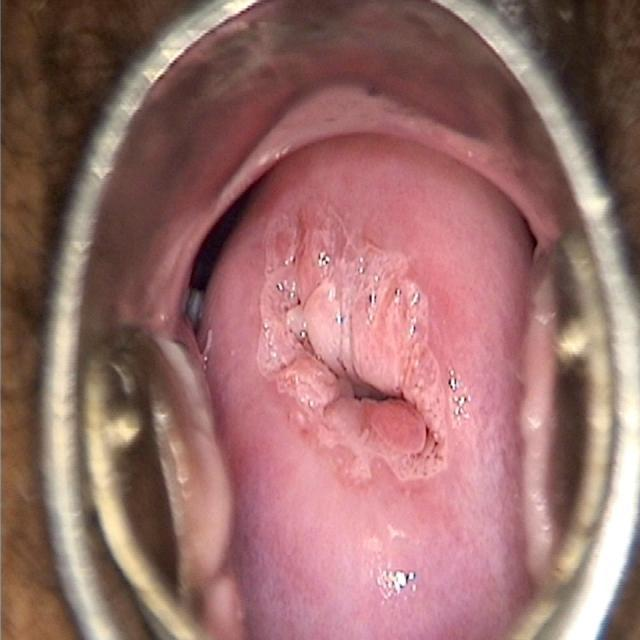cervical_lesion: (219, 176, 509, 617)
